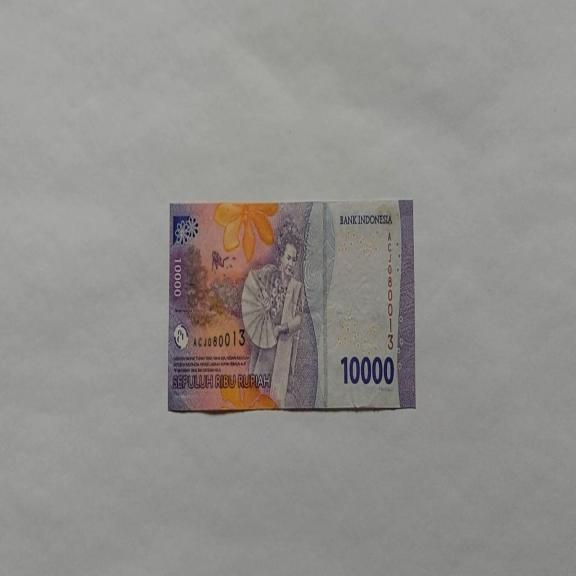Kertas: (167, 198, 415, 414), (340, 353, 394, 386)
